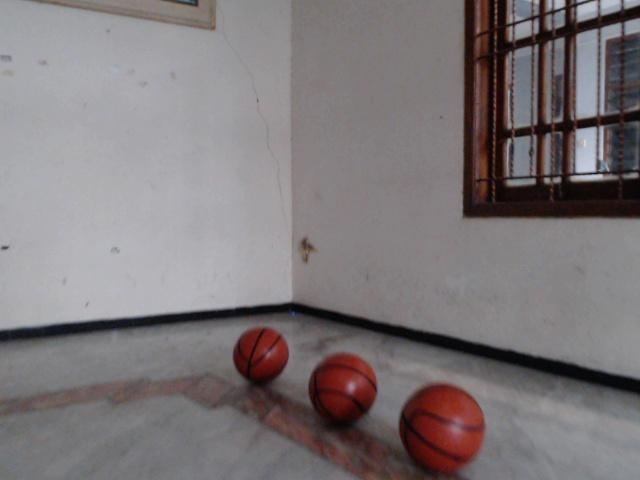Sports-Ball: (392, 382, 490, 479), (306, 352, 378, 426), (229, 327, 290, 385)
